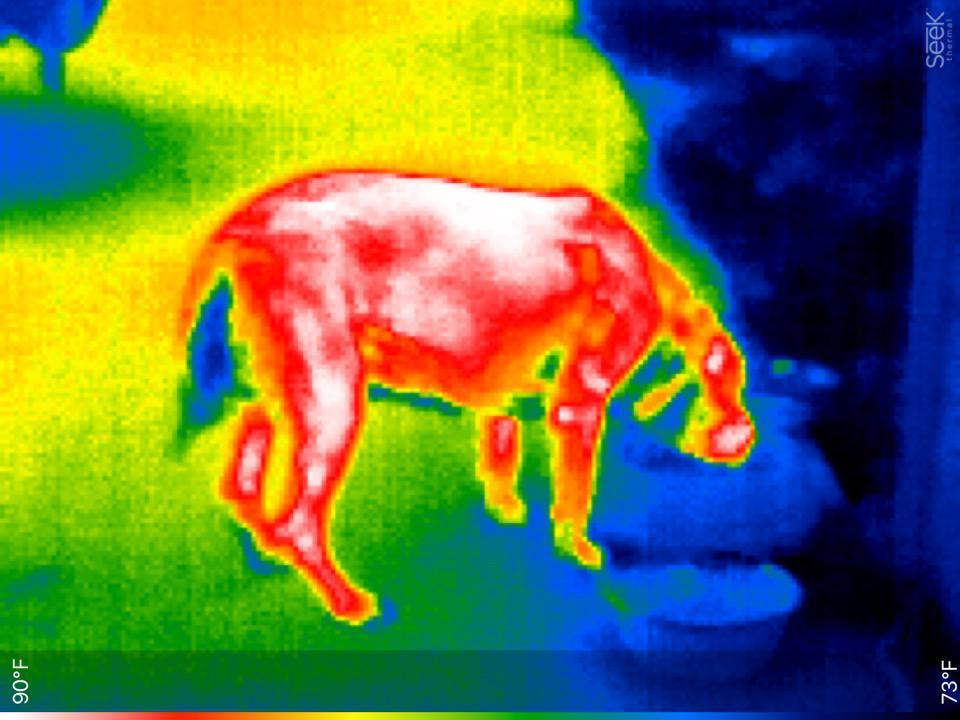dog: (164, 156, 761, 626)
